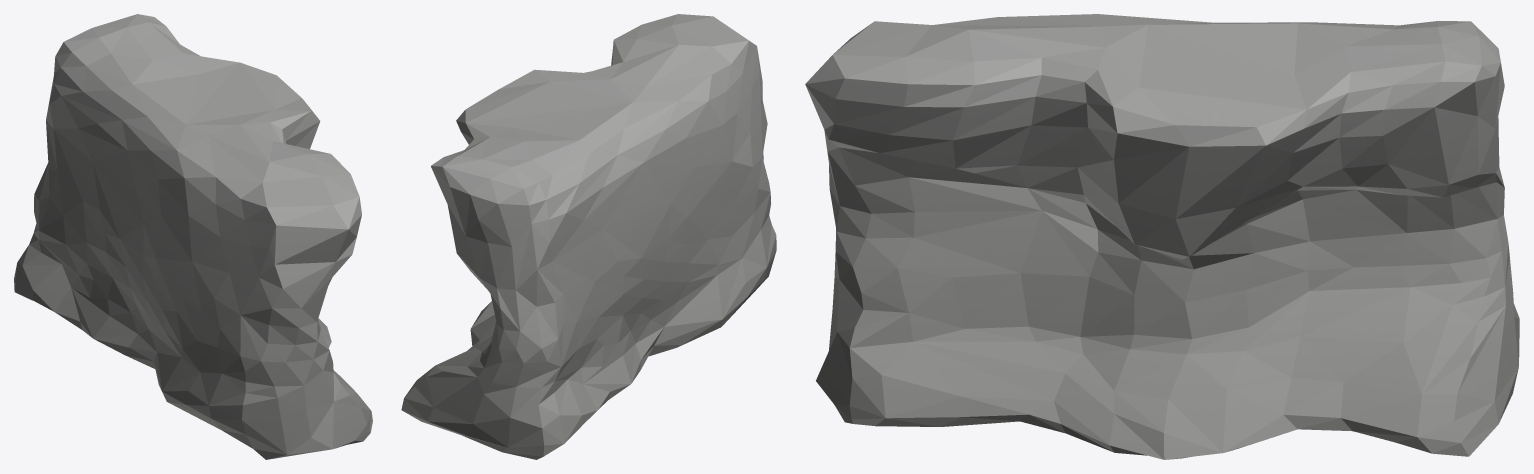
The model's file is Cavern_Wall_Med-06.fbx.
The picture shows the model from 3 angles, left to right: view 1: azimuth 30°, elevation 25°; view 2: azimuth 150°, elevation 25°; view 3: azimuth 270°, elevation 25°; orthographic projection. The views are drawn at different scales.
Parts seen in each view (by area): view 1: Cavern_Wall_Med-06; view 2: Cavern_Wall_Med-06; view 3: Cavern_Wall_Med-06.
Boxes of the visible parts, x1,y1,x2,y2 form: Cavern_Wall_Med-06: [14, 14, 372, 459]; Cavern_Wall_Med-06: [401, 14, 776, 459]; Cavern_Wall_Med-06: [805, 14, 1519, 459].
Bounding box in the file's own units: 954 × 1215 × 2084.
1 material, 1 textured.
